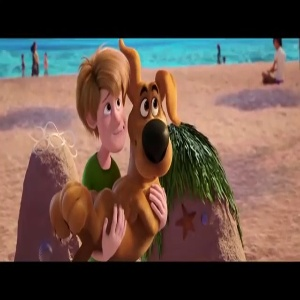Scooby: (132, 74, 180, 186)
Shagy: (75, 50, 127, 154)
